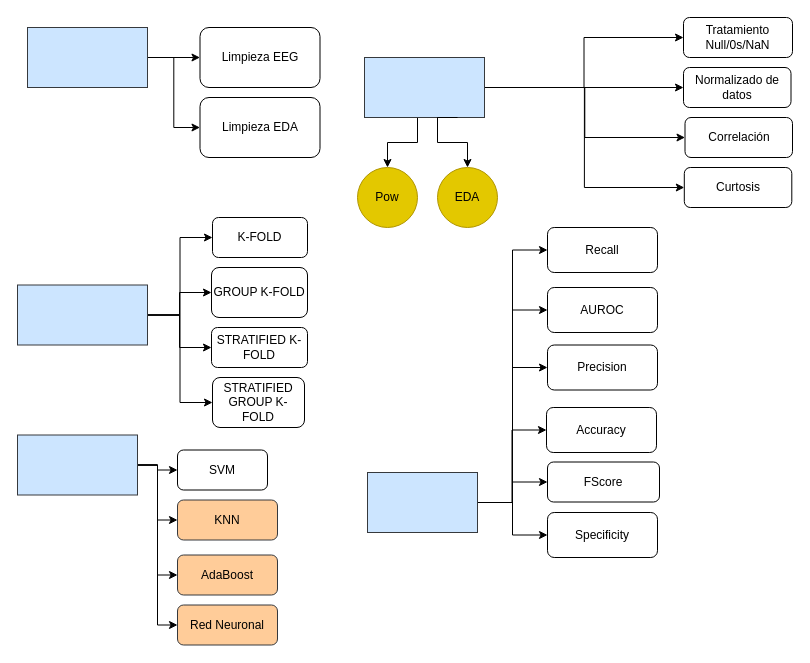
The diagram is 810 pixels wide and 663 high, and some of its shapes have lost their labels. Each missing label, with the box of its shape:
Datos: (364, 56, 484, 118)
Entrenado: (16, 434, 138, 495)
Extracción de características: (26, 26, 148, 88)
Predecir: (366, 472, 478, 532)
Validación: (16, 284, 148, 345)
